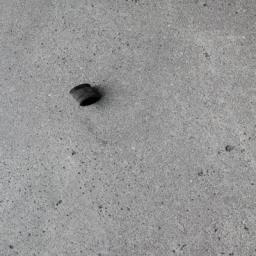FOD: (67, 83, 106, 111)
